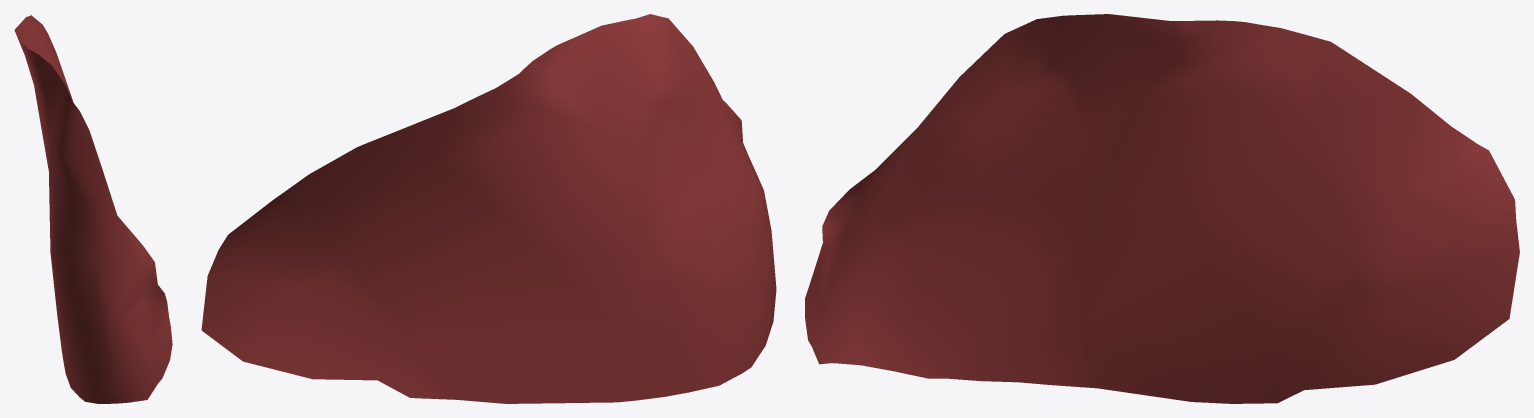
The model's file is short-head-of-biceps-brachii-ol.glb.
The picture shows the model from 3 angles, left to right: view 1: azimuth 30°, elevation 25°; view 2: azimuth 150°, elevation 25°; view 3: azimuth 270°, elevation 25°; orthographic projection. The views are drawn at different scales.
Parts seen in each view (by area): view 1: Short head of biceps brachii.ol; view 2: Short head of biceps brachii.ol; view 3: Short head of biceps brachii.ol.
Boxes of the visible parts, x1=… form: Short head of biceps brachii.ol: x1=14, y1=14, x2=172, y2=403; Short head of biceps brachii.ol: x1=201, y1=14, x2=776, y2=403; Short head of biceps brachii.ol: x1=805, y1=14, x2=1519, y2=403.
Bounding box in the file's own units: 0.00392 × 0.00566 × 0.0093.
